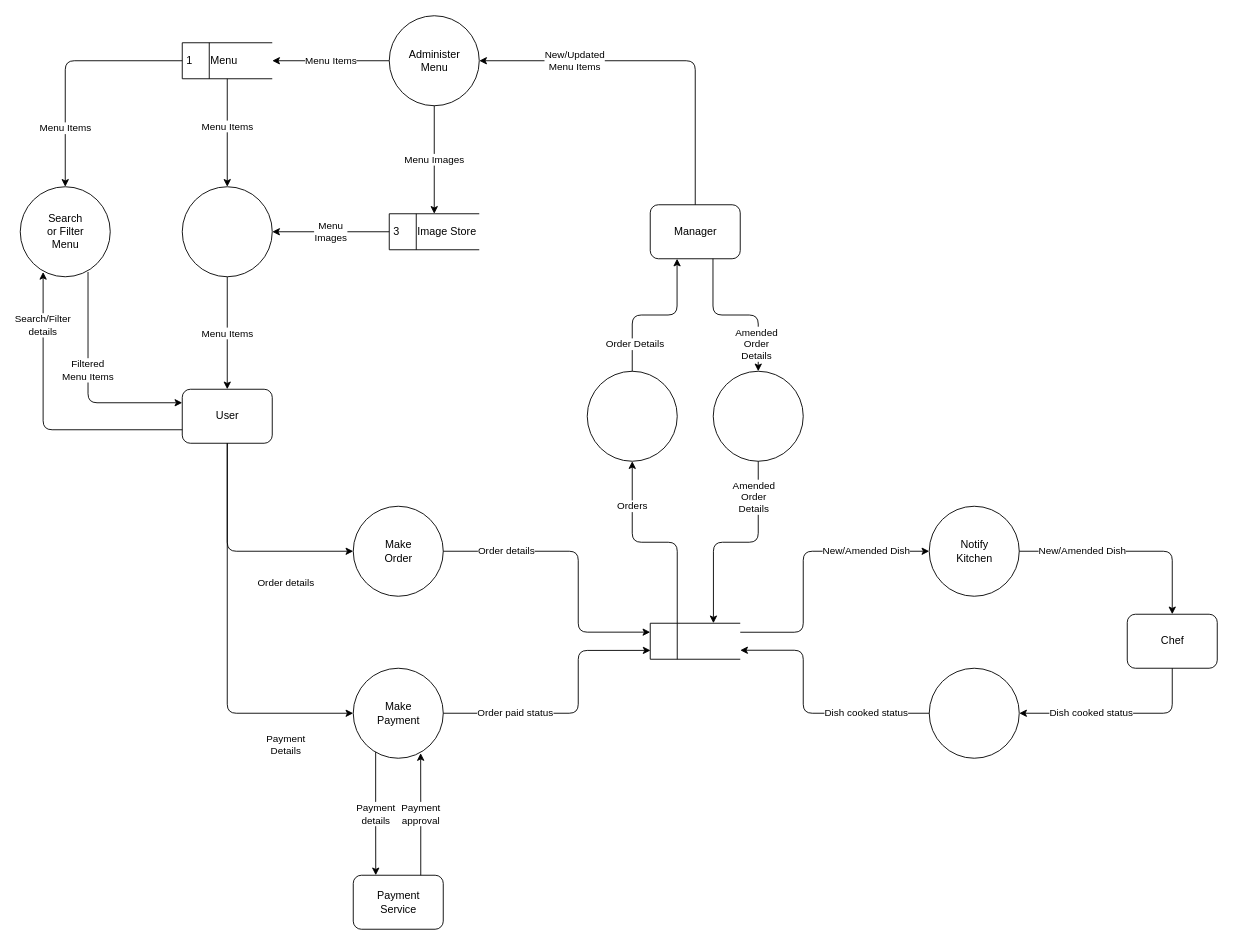
The diagram is 1234 pixels wide and 945 high, and some of its shapes have lost their labels. Each missing label, with the centre of its shape:
"2 Orders" goes at (694,640).
"Amend Order" goes at (757,415).
"Browse Menu" goes at (226,231).
"Update Order Status" goes at (973,712).
"View Order" goes at (631,415).
